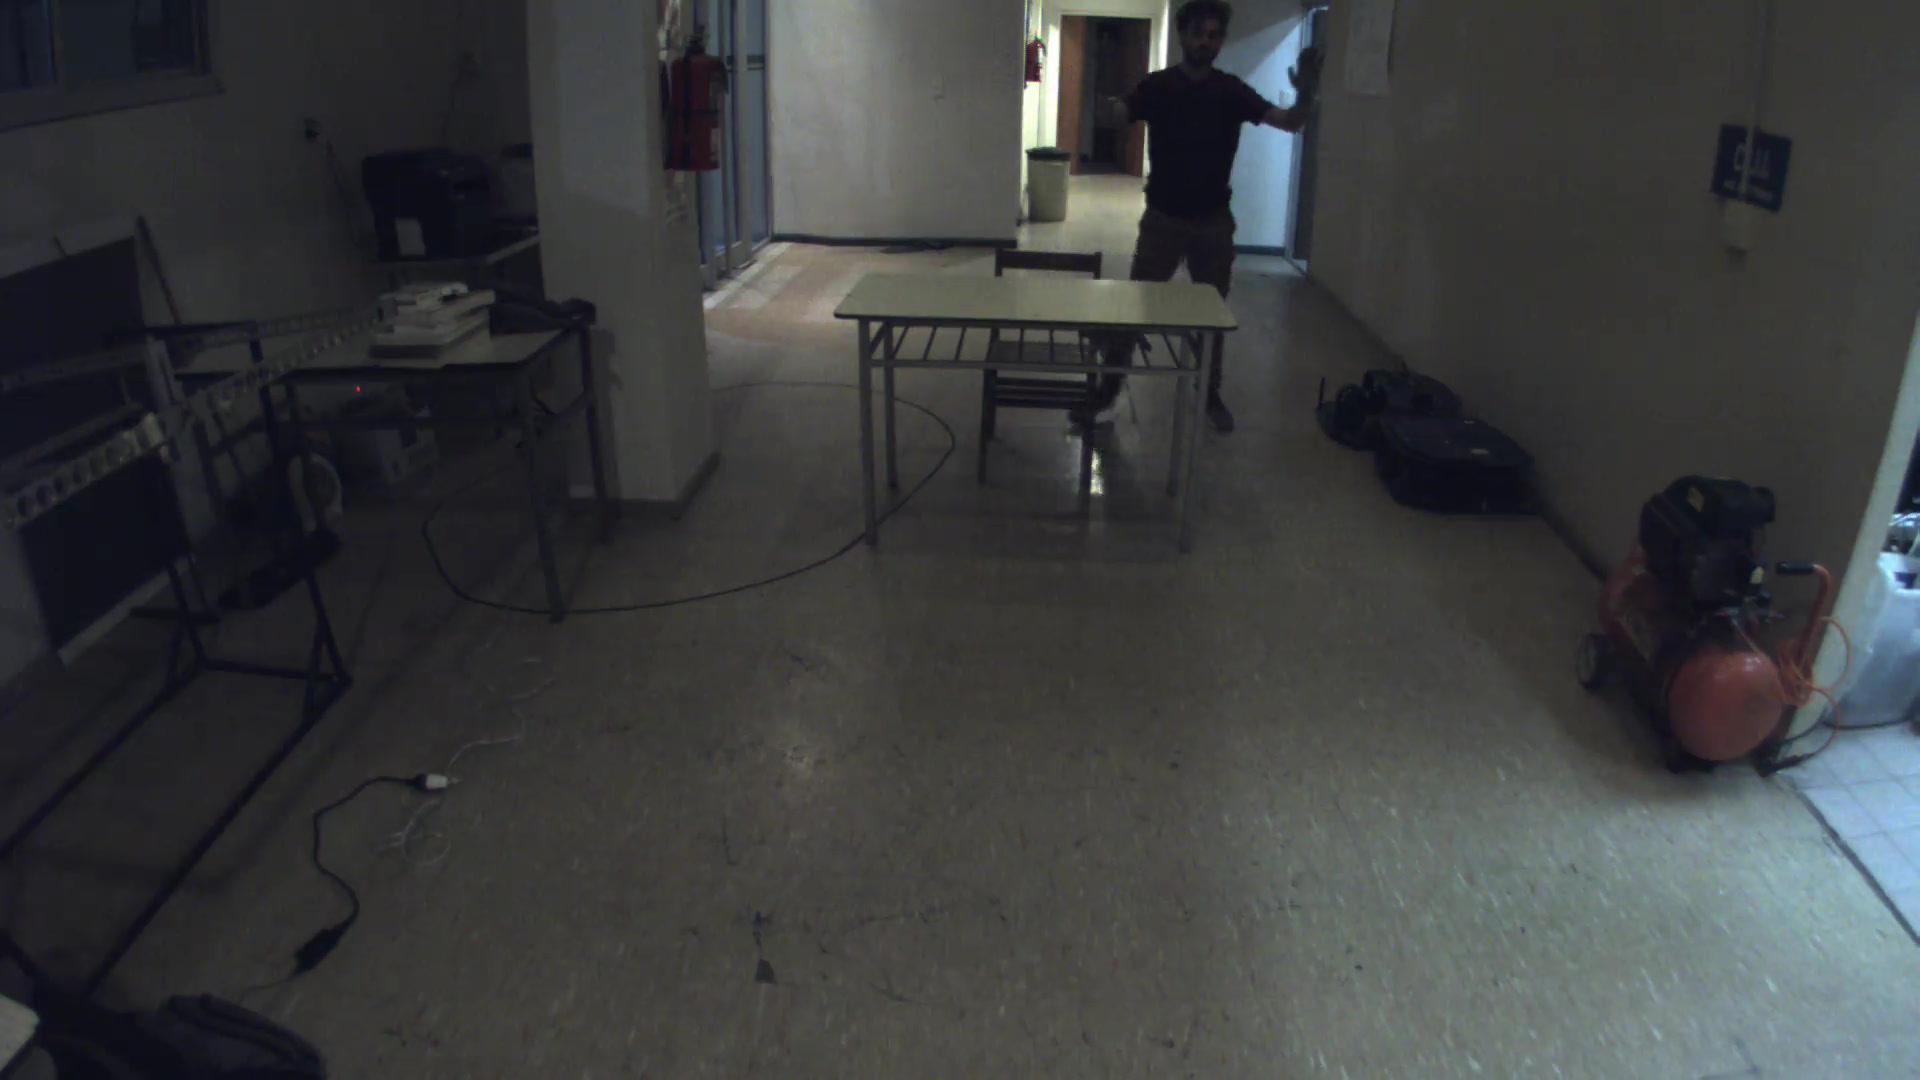hand: (1273, 38, 1338, 100)
